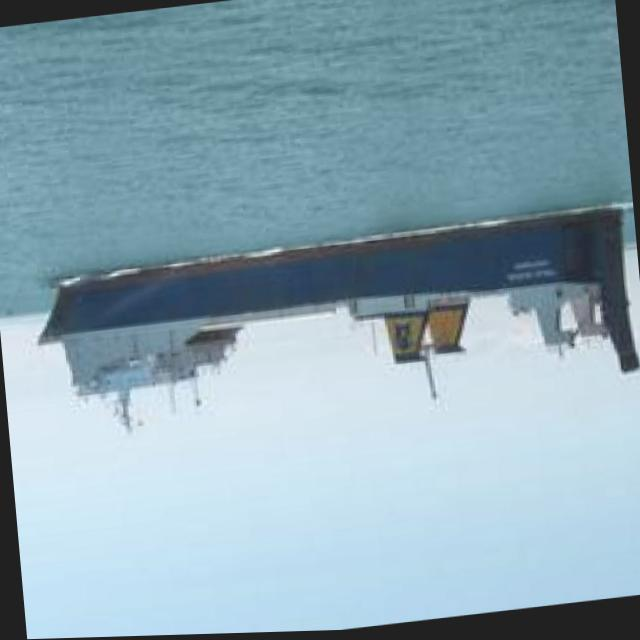ship2: (36, 207, 640, 434)
